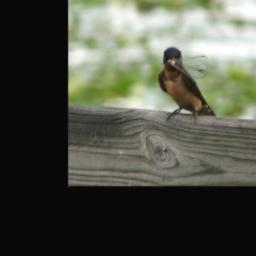Swallow: (159, 46, 217, 126)
